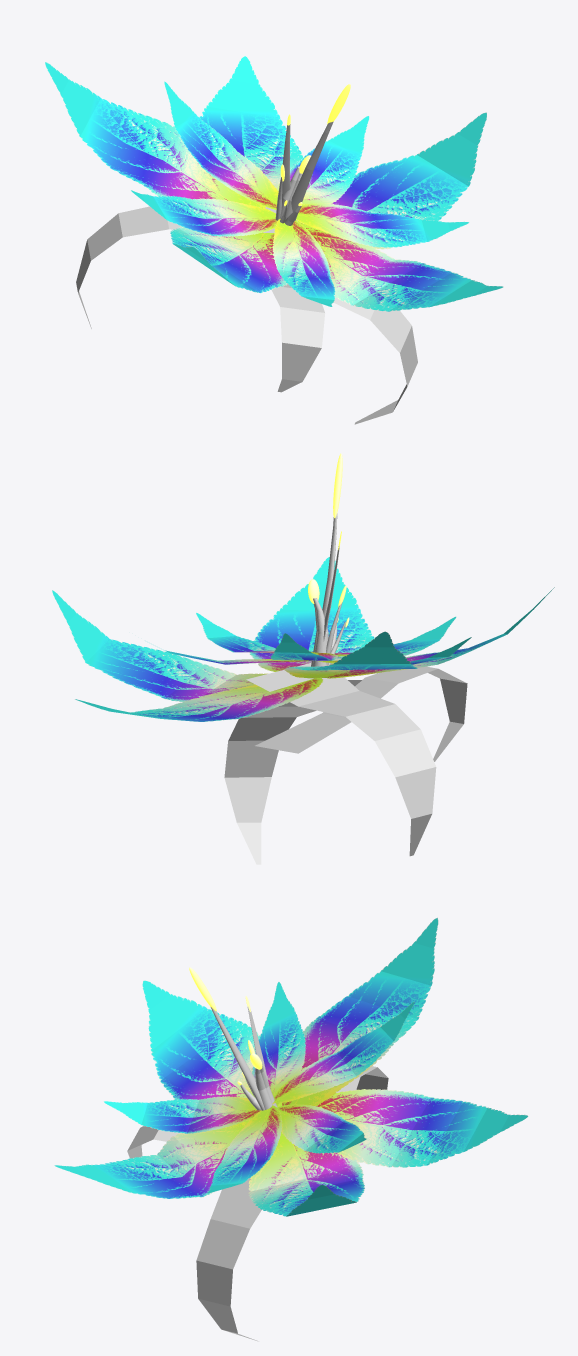
The model's file is pedals.fbx.
The picture shows the model from 3 angles, top to bottom: view 1: azimuth 30°, elevation 25°; view 2: azimuth 150°, elevation 25°; view 3: azimuth 270°, elevation 25°; orthographic projection. The views are drawn at different scales.
Visible parts, largest first — view 1: Plane.002, Plane, Plane.004, Plane.001, Plane.008, Plane.003, Plane.005, Plane.007, Plane.015, Plane.006, Plane.009, Plane.014 (+2 smaller); view 2: Plane.014, Plane, Plane.016, Plane.004, Plane.015, Plane.001, Plane.002, Plane.005, Plane.008, Plane.003, Plane.006, Cylinder.004 (+1 smaller); view 3: Plane.001, Plane.003, Plane.002, Plane.004, Plane, Plane.016, Plane.008, Plane.006, Plane.007, Plane.005, Plane.009, Cylinder.005 (+2 smaller).
Part boxes in pixels (box(x1,y1,x2,y2)): Plane.002: box(45, 62, 265, 208); Plane: box(298, 112, 486, 249); Plane.004: box(302, 225, 503, 311); Plane.001: box(199, 56, 303, 189); Plane.008: box(164, 81, 278, 209); Plane.003: box(170, 226, 287, 293); Plane.005: box(296, 203, 469, 247); Plane.007: box(131, 190, 276, 236); Plane.015: box(271, 283, 325, 392); Plane.006: box(272, 219, 335, 306); Plane.009: box(277, 116, 369, 204); Plane.014: box(76, 206, 297, 328); Plane.014: box(246, 663, 436, 856); Plane: box(52, 590, 267, 701); Plane.016: box(224, 680, 361, 864); Plane.004: box(249, 556, 374, 671); Plane.015: box(255, 666, 467, 761); Plane.001: box(75, 677, 323, 721); Plane.002: box(284, 631, 417, 678); Plane.005: box(196, 612, 312, 653); Plane.008: box(270, 633, 338, 660); Plane.003: box(327, 587, 554, 678); Plane.006: box(335, 616, 456, 656); Cylinder.004: box(313, 598, 328, 666); Plane.001: box(316, 1089, 528, 1167); Plane.003: box(142, 980, 282, 1106); Plane.002: box(282, 917, 438, 1106); Plane.004: box(54, 1118, 281, 1198); Plane: box(248, 1132, 364, 1216); Plane.016: box(196, 1178, 261, 1341); Plane.008: box(272, 1002, 414, 1104); Plane.006: box(103, 1096, 260, 1133); Plane.007: box(251, 982, 305, 1105); Plane.005: box(207, 1105, 282, 1193); Plane.009: box(277, 1104, 366, 1153); Cylinder.005: box(210, 1007, 264, 1110).
Size of the model in its own units: 318 by 247 by 347.
